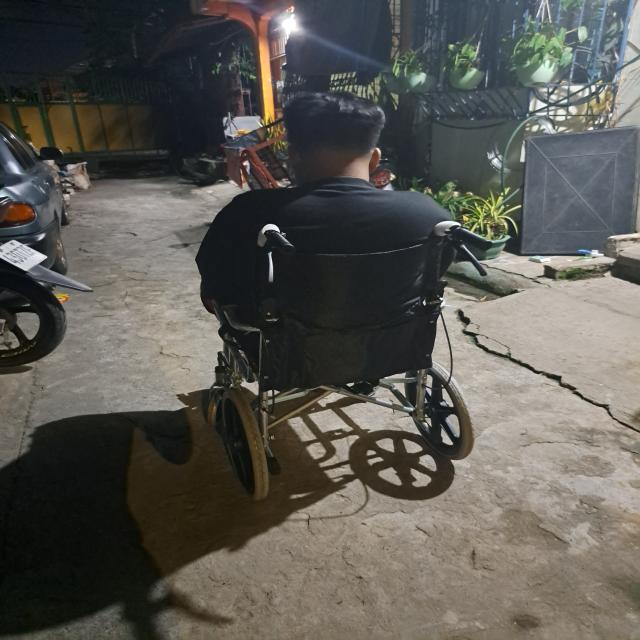wheelchairs: (202, 214, 522, 504)
